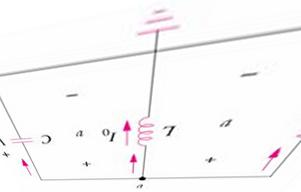inductor: (132, 108, 157, 152)
